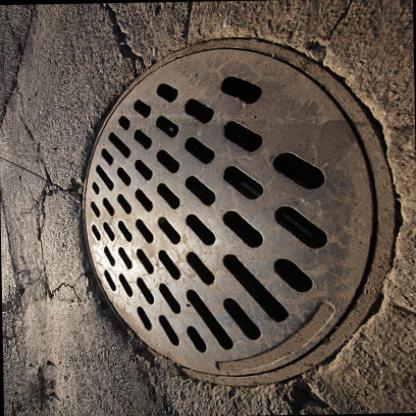manholes: (50, 22, 416, 396)
